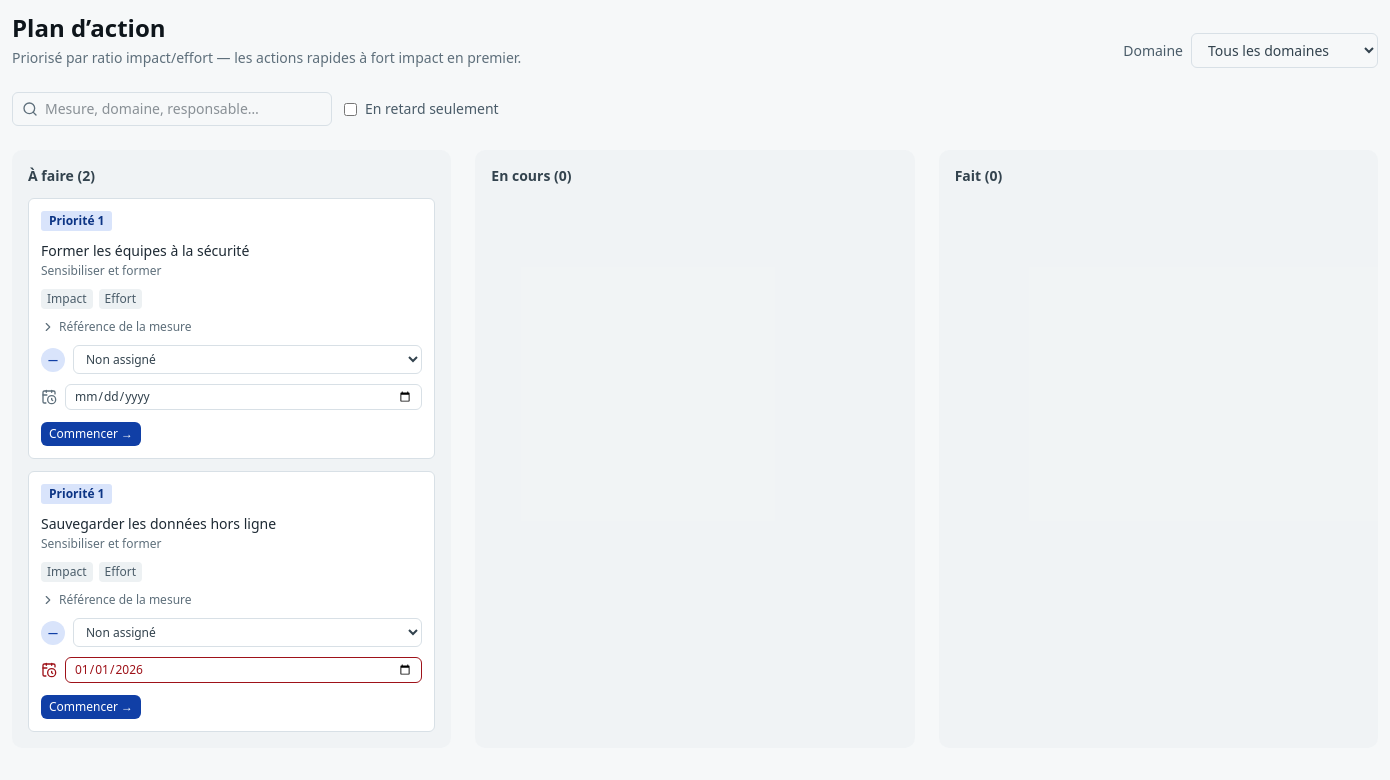
Test: ActionPlanPage — chercher une action › n’affiche que les actions en retard sur demande
Click the checkbox labelled "En retard seulement".
click(350, 109)  # box [344,102,357,116]
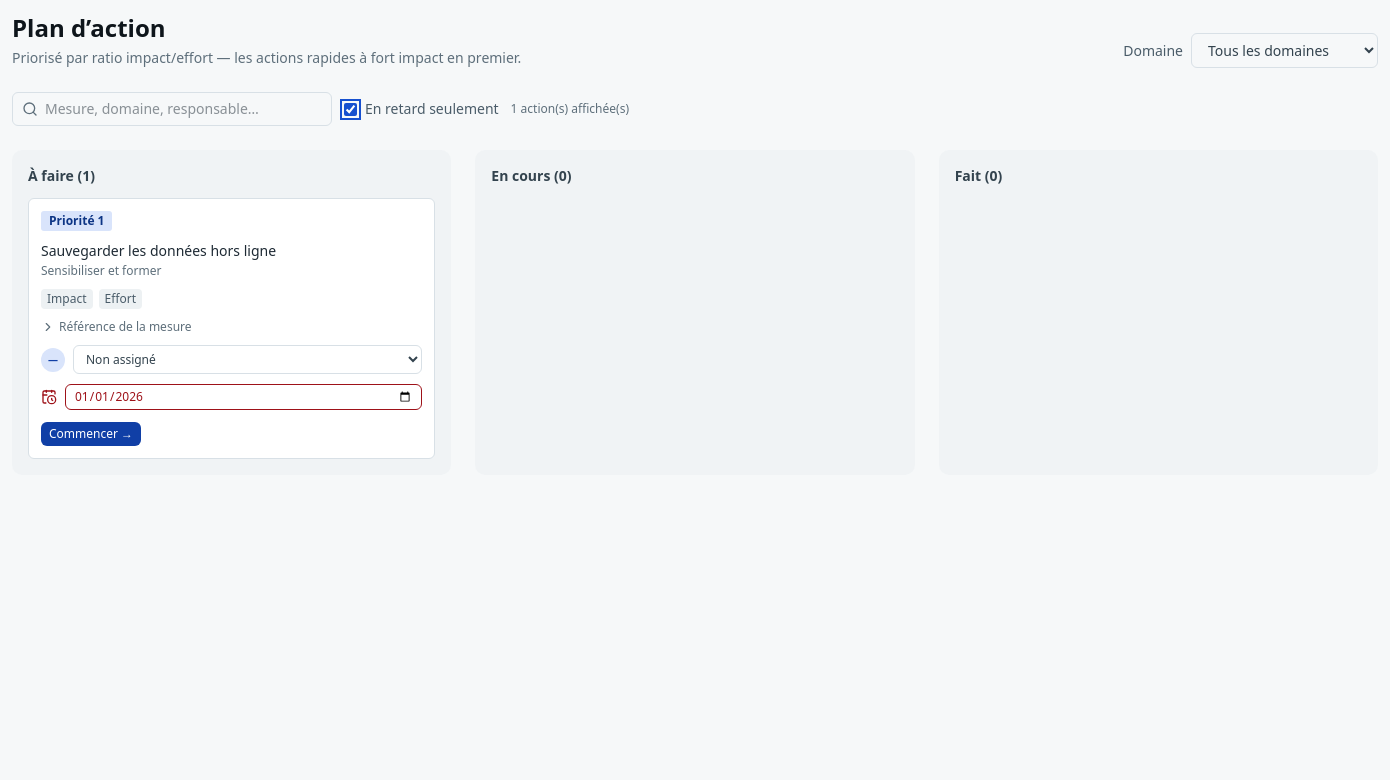
Check: the text "Sauvegarder les données hors ligne" is shown, box [41,241,276,260]
Check: the text "Former les équipes à la sécurité" is gone
Check: the text "1 action(s) affichée(s)" is shown, box [511,101,629,117]
